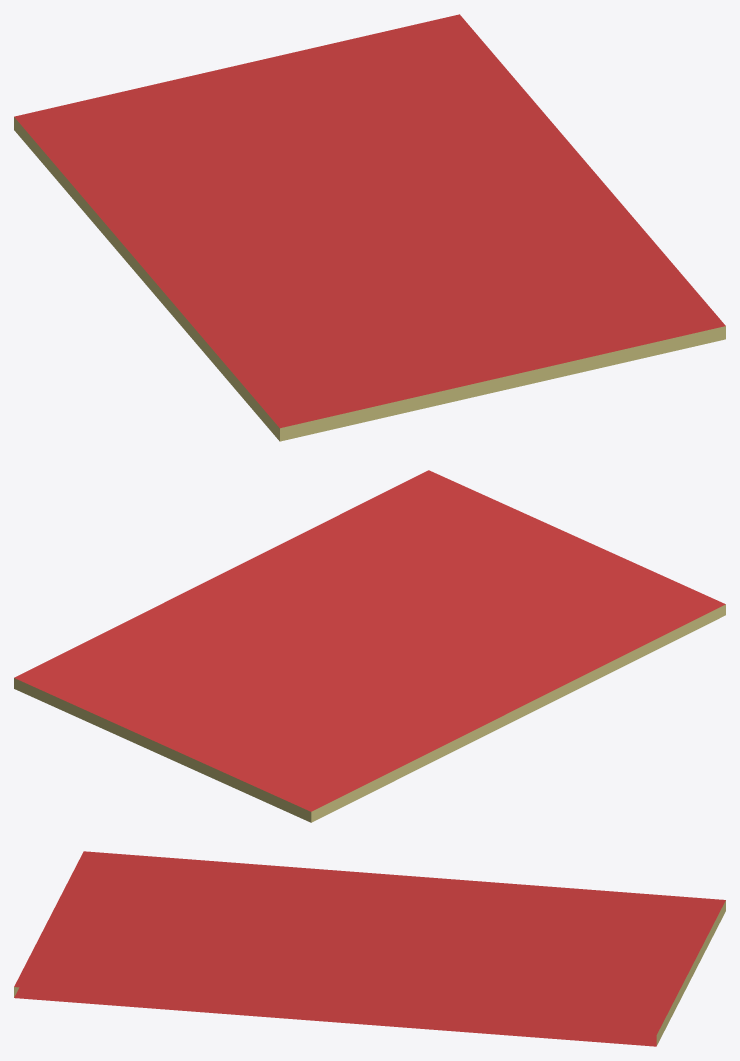
3 views of the same model, one above another, from view 1: azimuth 30°, elevation 25°; view 2: azimuth 150°, elevation 25°; view 3: azimuth 270°, elevation 25° (orthographic). The views are drawn at different scales.
Bounding box in the file's own units: 4.11 × 5.81 × 0.357.
